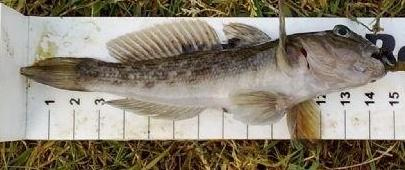Goby: (22, 17, 386, 151)
